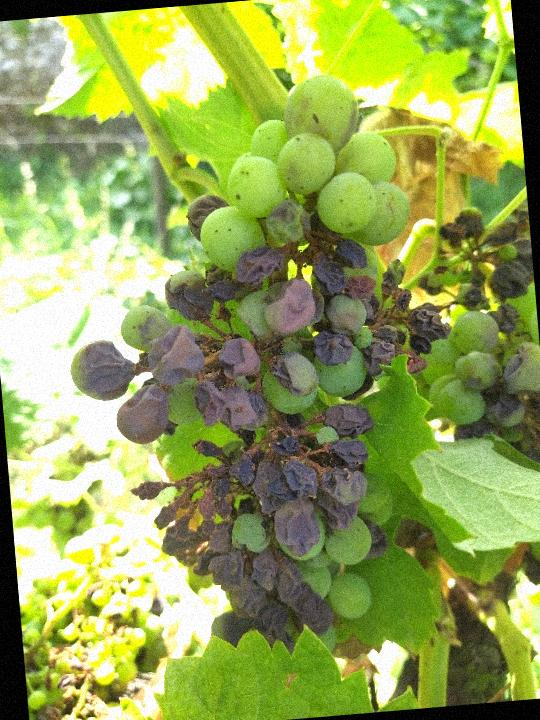grape: (45, 60, 481, 675)
